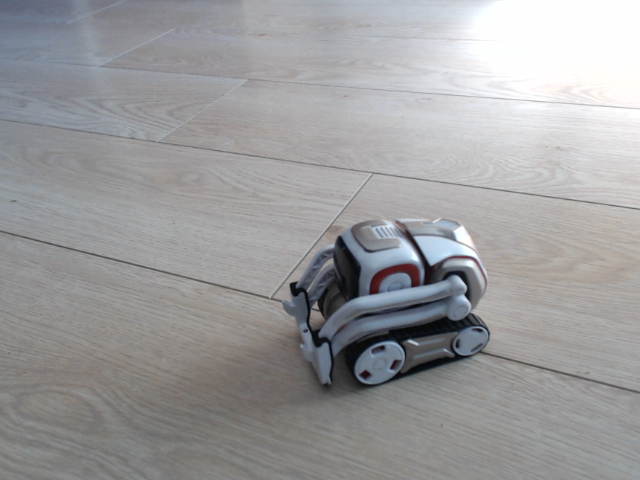cozmo: (279, 192, 494, 407)
